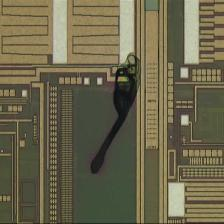PARTICLE: (88, 51, 145, 178)
